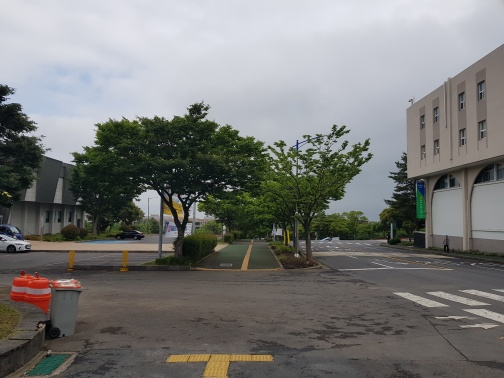Gym: (12, 149, 100, 236)
Main Building of University: (403, 36, 504, 260), (412, 175, 430, 227)
